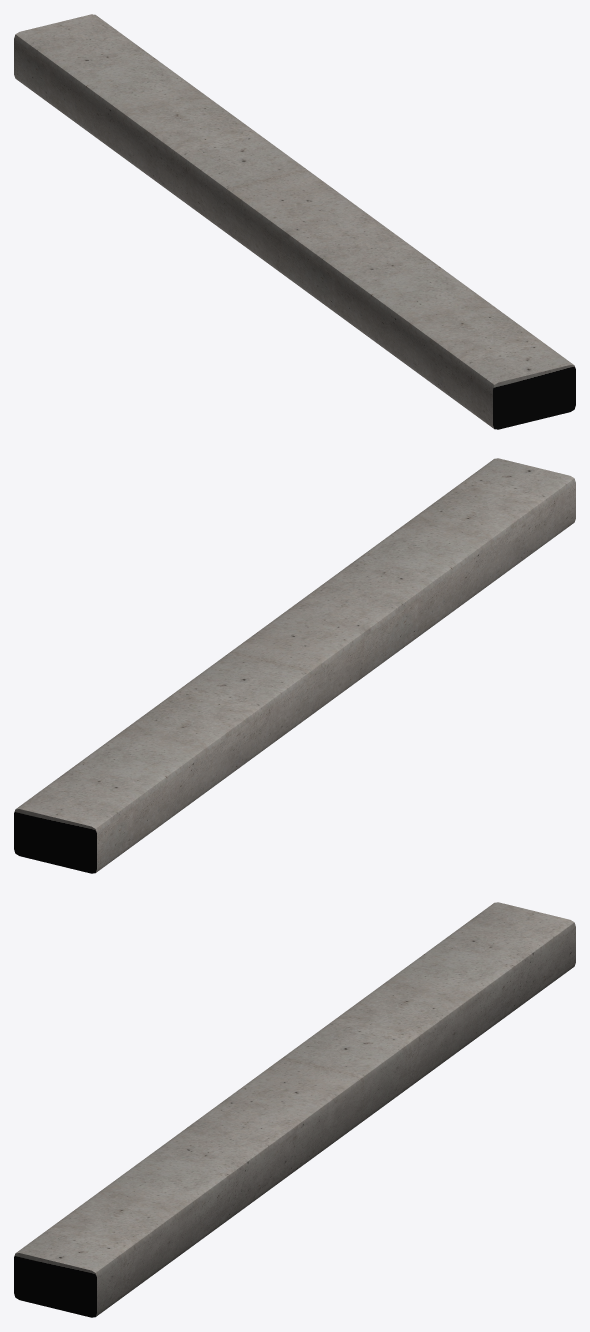
Rendered from BrickWall_Short_Trim_01.FBX.
3 views of the same model, one above another, from view 1: azimuth 30°, elevation 25°; view 2: azimuth 150°, elevation 25°; view 3: azimuth 330°, elevation 25° (orthographic).
Parts seen in each view (by area): view 1: ShortWall_Brick01_Trim; view 2: ShortWall_Brick01_Trim; view 3: ShortWall_Brick01_Trim.
Part boxes in pixels (left/top/right/bottom): ShortWall_Brick01_Trim: left=14, top=14, right=575, bottom=429; ShortWall_Brick01_Trim: left=14, top=458, right=575, bottom=873; ShortWall_Brick01_Trim: left=14, top=902, right=575, bottom=1317.
Bounding box in the file's own units: 0.3001 × 0.1631 × 3.
